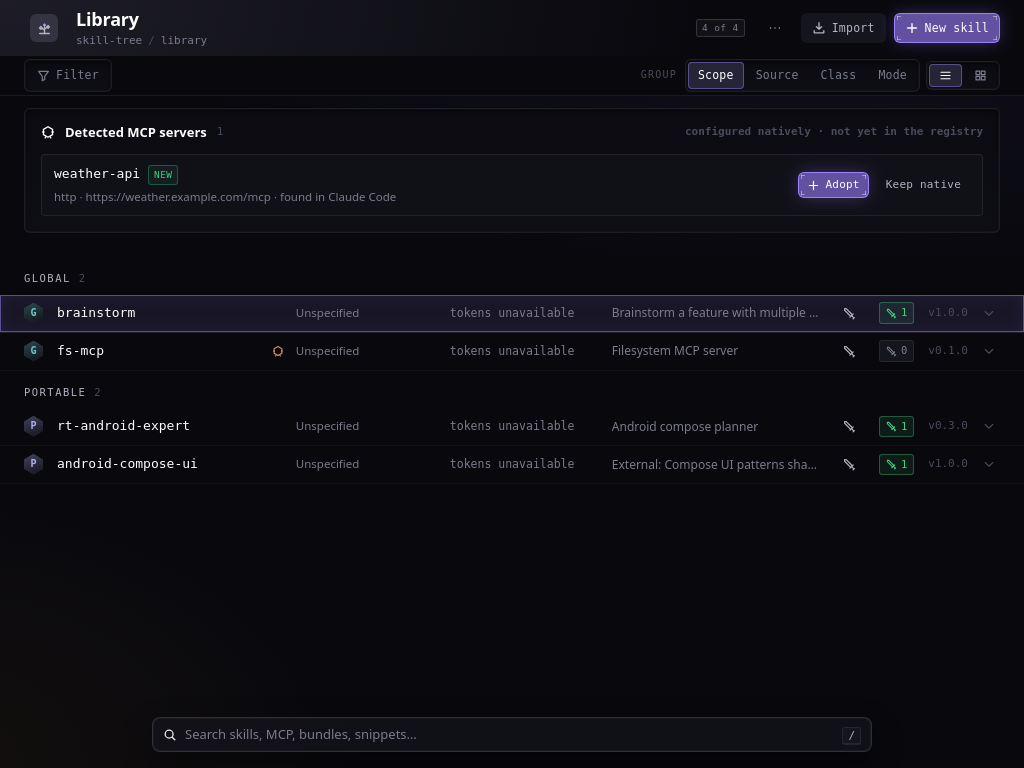
SkillLibrary Detected MCP servers band › the library mounts the Detected MCP servers band and Adopt imports the candidate
This screenshot has width=1024, height=768.
Expected: the element with test id "detected-mcp-servers" is shown, [24,108,1000,233]
Expected: the text "weather-api" is shown, [54,165,140,184]
Click the button "Adopt": (833, 185) [798,172,869,198]
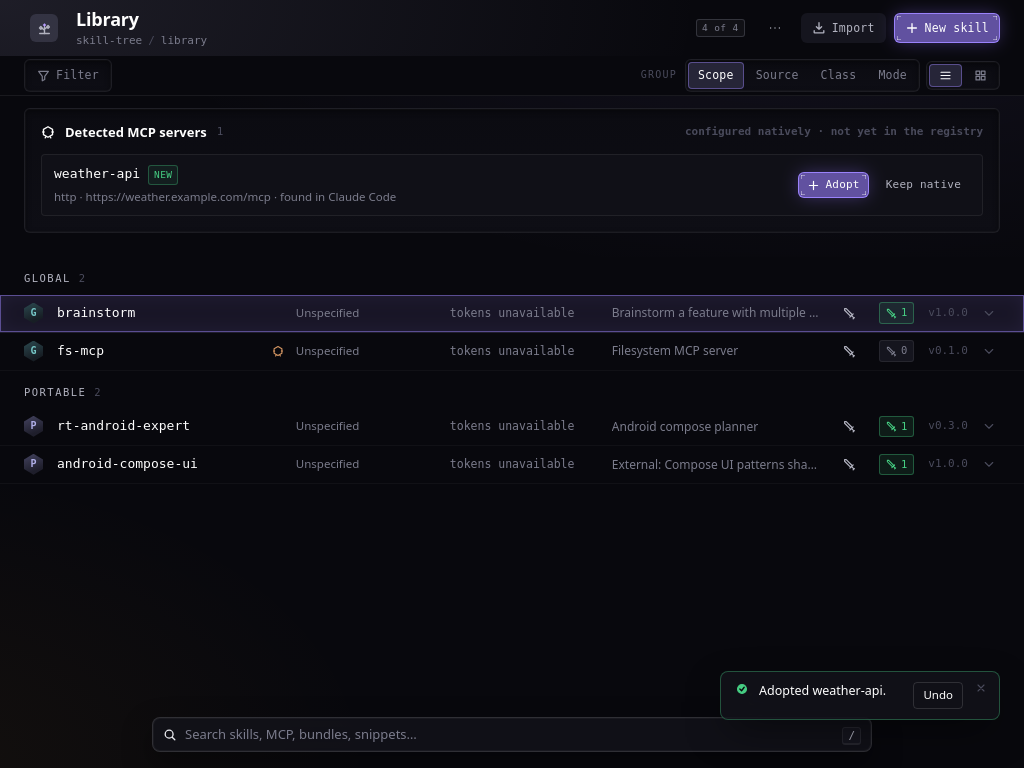
Expected: the text "Adopted weather-api." is shown, [759,682,904,700]
